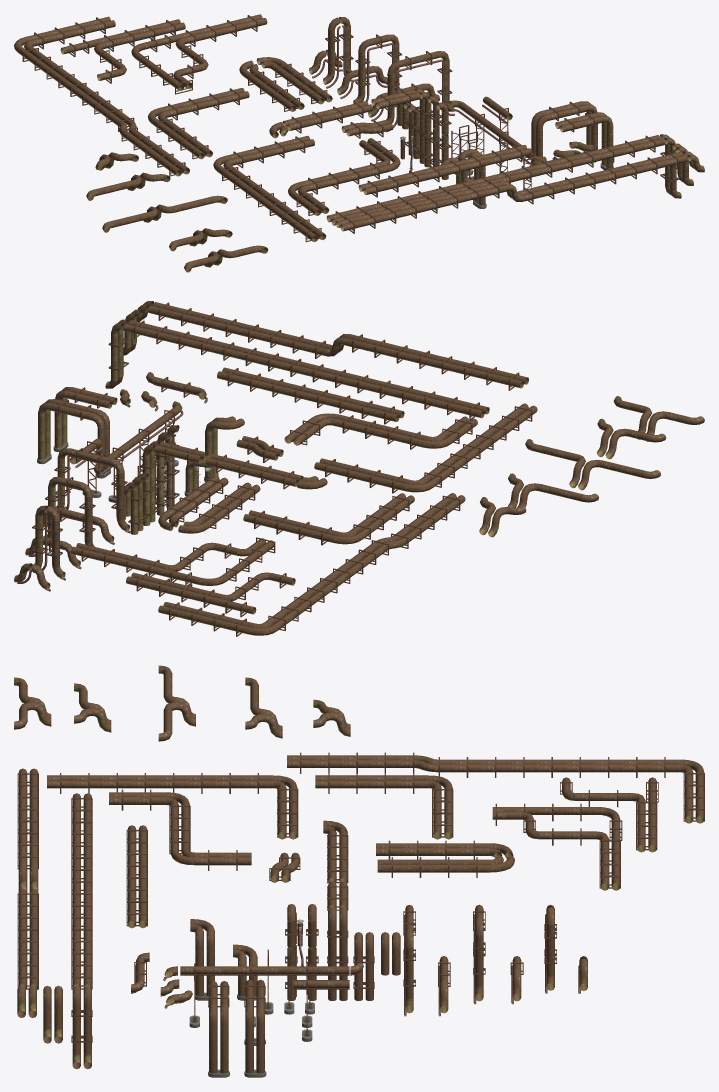
The model's file is Pipes_set_v1.FBX.
3 views of the same model, one above another, from view 1: azimuth 30°, elevation 25°; view 2: azimuth 150°, elevation 25°; view 3: azimuth 270°, elevation 25° (orthographic). The views are drawn at different scales.
Visible parts, largest first — view 1: Pipes_set_v1_H_set_v16, Pipes_set_v1_H_set_v11, Pipes_set_v1_H_set_v14, Pipes_set_v1_H_set_v7, Pipes_set_v1_H_set_v9, Pipes_set_v1_H_set_v6, Pipes_set_v1_H_set_v8, Pipes_set_v1_H_set_v15, Pipes_set_v1_H_set_v10, Pipes_set_v1_U_set_v1, Pipes_set_v1_V_set_v9, Pipes_set_v1_U_set_v3 (+21 smaller); view 2: Pipes_set_v1_H_set_v11, Pipes_set_v1_H_set_v16, Pipes_set_v1_H_set_v14, Pipes_set_v1_H_set_v7, Pipes_set_v1_H_set_v9, Pipes_set_v1_H_set_v6, Pipes_set_v1_H_set_v8, Pipes_set_v1_H_set_v15, Pipes_set_v1_H_set_v10, Pipes_set_v1_V_set_v9, Pipes_set_v1_U_set_v1, Pipes_set_v1_W_set_v3 (+21 smaller); view 3: Pipes_set_v1_H_set_v11, Pipes_set_v1_H_set_v16, Pipes_set_v1_H_set_v7, Pipes_set_v1_H_set_v14, Pipes_set_v1_H_set_v9, Pipes_set_v1_H_set_v6, Pipes_set_v1_H_set_v8, Pipes_set_v1_H_set_v10, Pipes_set_v1_H_set_v15, Pipes_set_v1_H_set_v1, Pipes_set_v1_H_set_v18, Pipes_set_v1_V_set_v9 (+21 smaller).
Part boxes in pixels (bbox=[...]): Pipes_set_v1_H_set_v16: bbox=[335, 151, 687, 233]; Pipes_set_v1_H_set_v11: bbox=[14, 16, 189, 176]; Pipes_set_v1_H_set_v14: bbox=[326, 135, 665, 225]; Pipes_set_v1_H_set_v7: bbox=[213, 135, 326, 242]; Pipes_set_v1_H_set_v9: bbox=[131, 14, 267, 94]; Pipes_set_v1_H_set_v6: bbox=[288, 138, 400, 215]; Pipes_set_v1_H_set_v8: bbox=[148, 88, 249, 159]; Pipes_set_v1_H_set_v15: bbox=[358, 145, 531, 197]; Pipes_set_v1_H_set_v10: bbox=[60, 19, 185, 83]; Pipes_set_v1_U_set_v1: bbox=[384, 51, 454, 132]; Pipes_set_v1_V_set_v9: bbox=[531, 101, 597, 163]; Pipes_set_v1_U_set_v3: bbox=[353, 34, 402, 103]; Pipes_set_v1_H_set_v11: bbox=[158, 493, 465, 636]; Pipes_set_v1_H_set_v16: bbox=[148, 302, 528, 390]; Pipes_set_v1_H_set_v14: bbox=[123, 320, 489, 420]; Pipes_set_v1_H_set_v7: bbox=[314, 403, 537, 493]; Pipes_set_v1_H_set_v9: bbox=[71, 537, 275, 585]; Pipes_set_v1_H_set_v6: bbox=[284, 413, 477, 449]; Pipes_set_v1_H_set_v8: bbox=[243, 493, 414, 545]; Pipes_set_v1_H_set_v15: bbox=[217, 367, 404, 424]; Pipes_set_v1_H_set_v10: bbox=[126, 572, 295, 617]; Pipes_set_v1_V_set_v9: bbox=[37, 399, 110, 478]; Pipes_set_v1_U_set_v1: bbox=[54, 448, 130, 533]; Pipes_set_v1_W_set_v3: bbox=[525, 439, 660, 490]; Pipes_set_v1_H_set_v11: bbox=[287, 752, 704, 823]; Pipes_set_v1_H_set_v16: bbox=[17, 768, 38, 989]; Pipes_set_v1_H_set_v7: bbox=[47, 773, 298, 839]; Pipes_set_v1_H_set_v14: bbox=[71, 793, 92, 989]; Pipes_set_v1_H_set_v9: bbox=[492, 803, 622, 890]; Pipes_set_v1_H_set_v6: bbox=[109, 789, 251, 870]; Pipes_set_v1_H_set_v8: bbox=[315, 773, 453, 839]; Pipes_set_v1_H_set_v10: bbox=[560, 777, 658, 852]; Pipes_set_v1_H_set_v15: bbox=[126, 825, 147, 928]; Pipes_set_v1_H_set_v1: bbox=[180, 963, 349, 1027]; Pipes_set_v1_H_set_v18: bbox=[377, 856, 514, 877]; Pipes_set_v1_V_set_v9: bbox=[244, 979, 266, 1077].
Size of the model in its own units: 60.12 by 9.55 by 56.1.
